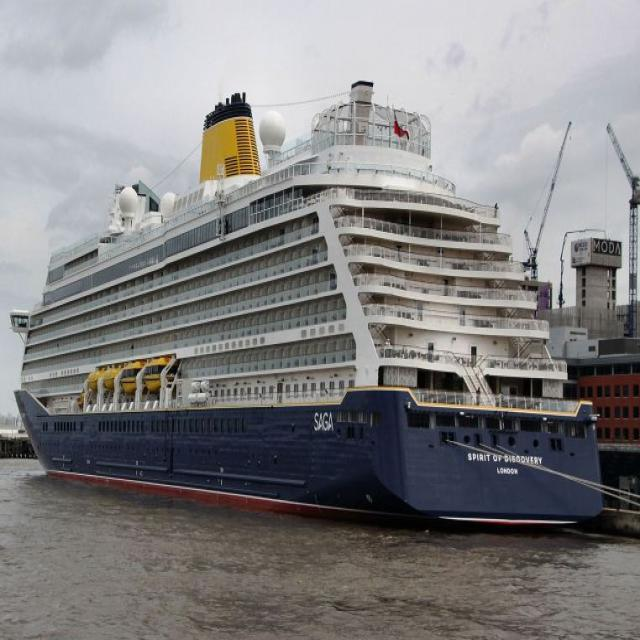cruises: (11, 55, 616, 545)
